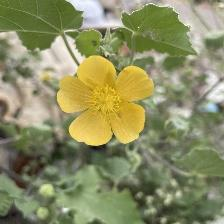indian mallow: (56, 55, 158, 150)
